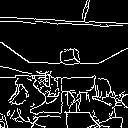cube: (57, 44, 84, 70)
